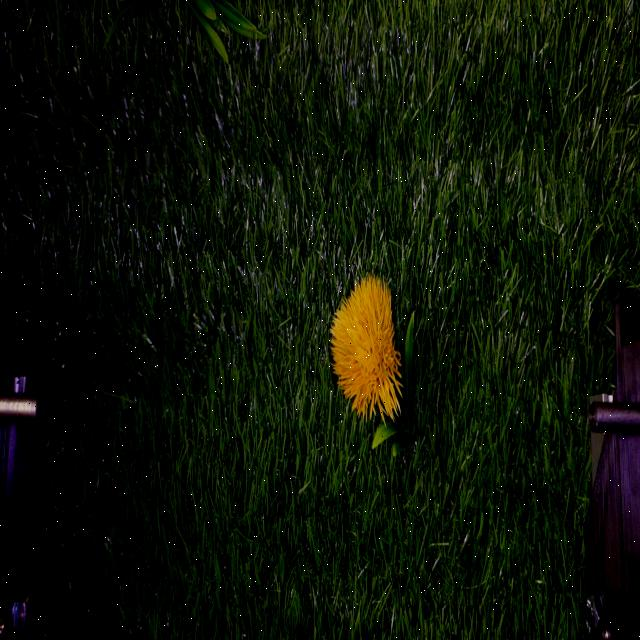dandelion: (0, 0, 198, 210)
